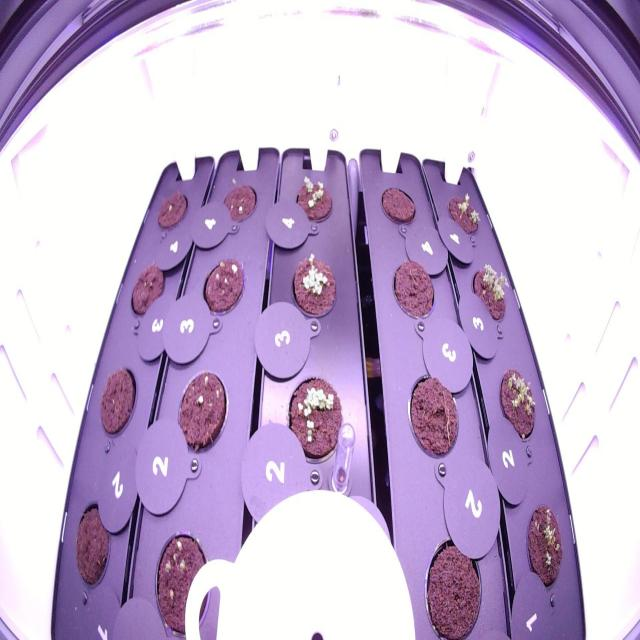germination: (143, 525, 214, 636), (280, 367, 348, 471), (170, 357, 231, 459), (522, 494, 568, 598), (285, 244, 341, 324), (494, 358, 540, 448), (195, 252, 248, 321), (466, 254, 515, 327), (284, 167, 336, 227), (218, 172, 261, 230), (444, 183, 486, 242)
pod: (418, 527, 486, 639), (401, 366, 462, 464), (68, 490, 115, 598), (94, 357, 141, 444), (386, 253, 440, 327), (126, 258, 168, 327), (374, 178, 419, 234), (152, 185, 192, 241)
